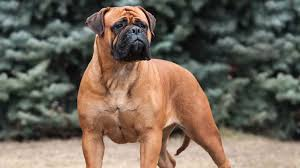dog: (70, 4, 230, 168)
